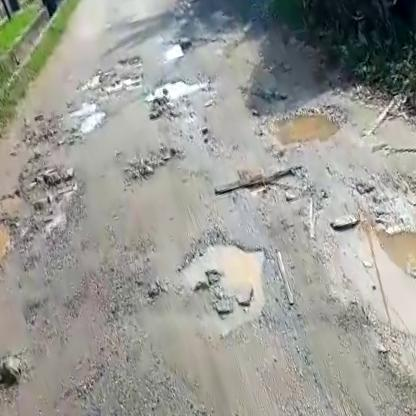pothole: (320, 176, 416, 416), (170, 223, 278, 333), (0, 380, 246, 416), (252, 82, 351, 159), (0, 158, 87, 240), (214, 157, 307, 212), (118, 140, 185, 187), (82, 58, 147, 101), (144, 68, 211, 109), (59, 101, 113, 142), (0, 214, 25, 270)
